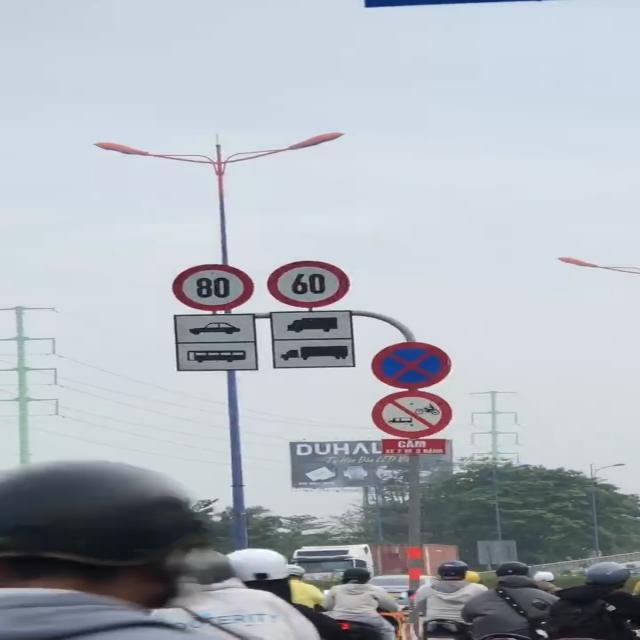Bien bao cam dung xe va do xe: (367, 339, 451, 388)
Bien bao toc do toi da cho phep: (174, 263, 254, 314), (266, 260, 349, 308)
